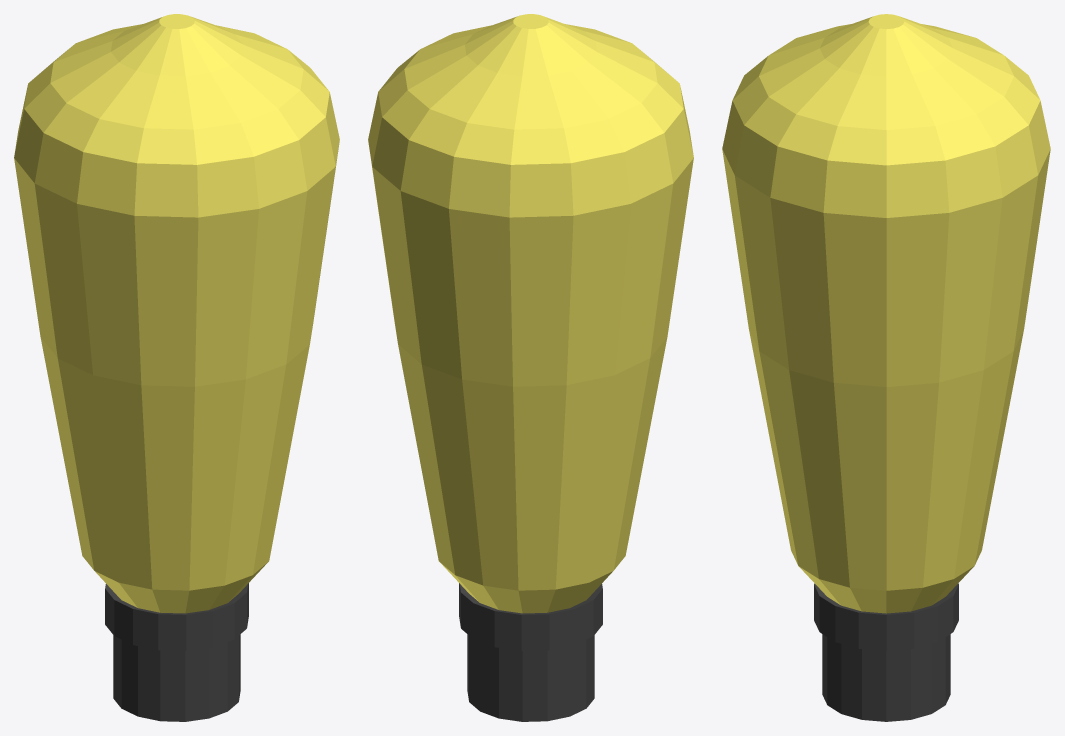
The model's file is GameLightBulb4.fbx.
3 views of the same model, side by side, from view 1: azimuth 30°, elevation 25°; view 2: azimuth 150°, elevation 25°; view 3: azimuth 270°, elevation 25° (orthographic).
Parts seen in each view (by area): view 1: Cylinder; view 2: Cylinder; view 3: Cylinder.
Part boxes in pixels (x1,y1,x2,y2): Cylinder: [14, 14, 339, 721]; Cylinder: [368, 14, 693, 721]; Cylinder: [722, 14, 1050, 721].
Bounding box in the file's own units: 181 × 409 × 181.
Materials: 2 (2 with a texture image).
